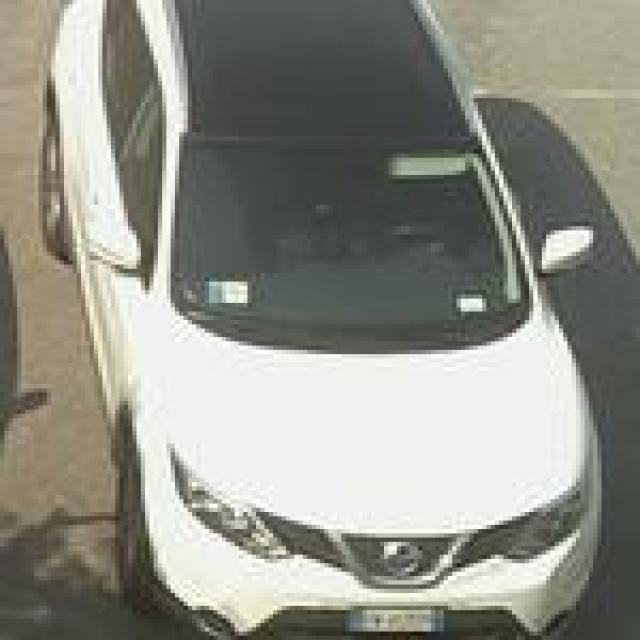cars-sUYr: (8, 0, 638, 640)
